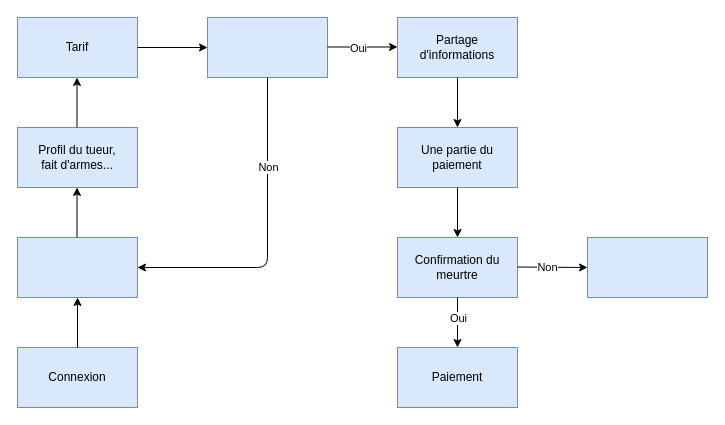
Image size: 725x425. Some labels were removed from this diagram. The centre of each missing label's shape, as x and y in pixels:
"Catalogue de tueur" belongs at (77,267).
"Remboursement" belongs at (647,267).
"Validation" belongs at (267,47).
